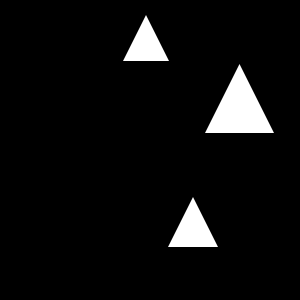triangle: (205, 64, 274, 133), (168, 197, 218, 247), (123, 15, 169, 61)
